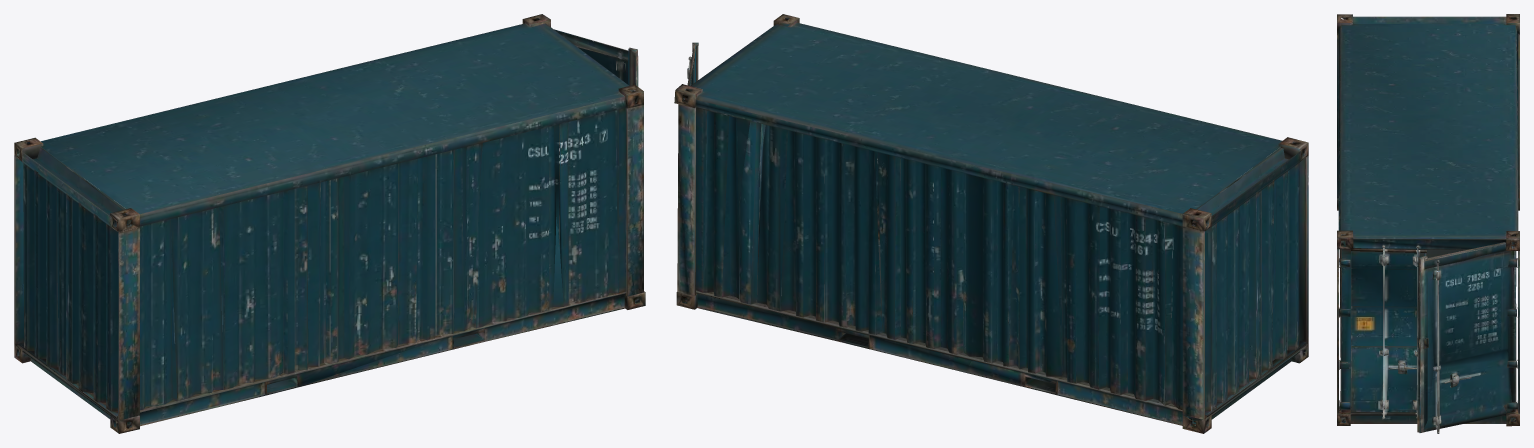
Rendered from shipping_container_ajar.glb.
3 views of the same model, side by side, from view 1: azimuth 30°, elevation 25°; view 2: azimuth 150°, elevation 25°; view 3: azimuth 270°, elevation 25° (orthographic). The views are drawn at different scales.
Visible parts, largest first — view 1: Meshy_AI_shipping_container_ajar_3d_20261028_texture; view 2: Meshy_AI_shipping_container_ajar_3d_20261028_texture; view 3: Meshy_AI_shipping_container_ajar_3d_20261028_texture.
Boxes of the visible parts, x1,y1,x2,y2 form: Meshy_AI_shipping_container_ajar_3d_20261028_texture: (14, 14, 645, 433); Meshy_AI_shipping_container_ajar_3d_20261028_texture: (674, 14, 1308, 433); Meshy_AI_shipping_container_ajar_3d_20261028_texture: (1337, 14, 1519, 433).
Bounding box in the file's own units: 6.1 × 2.21 × 1.95.
Materials: 1 (1 with a texture image).
